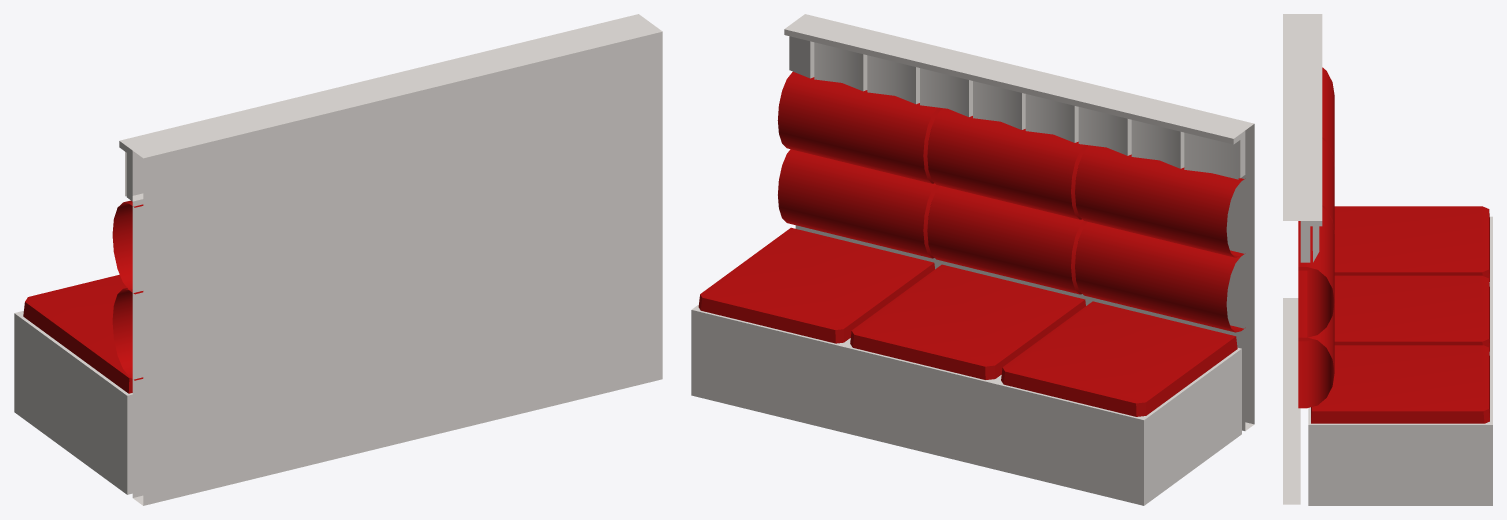
The model's file is SM_seat_mod_04.fbx.
3 renders of one model, left to right at view 1: azimuth 30°, elevation 25°; view 2: azimuth 150°, elevation 25°; view 3: azimuth 270°, elevation 25°, orthographic. The views are drawn at different scales.
Parts seen in each view (by area): view 1: seat_mod_04; view 2: seat_mod_04; view 3: seat_mod_04.
Boxes of the visible parts, x1,y1,x2,y2 form: seat_mod_04: [14, 14, 662, 505]; seat_mod_04: [691, 14, 1254, 505]; seat_mod_04: [1283, 14, 1492, 505].
Size of the model in its own units: 155 by 98.2 by 65.76.
